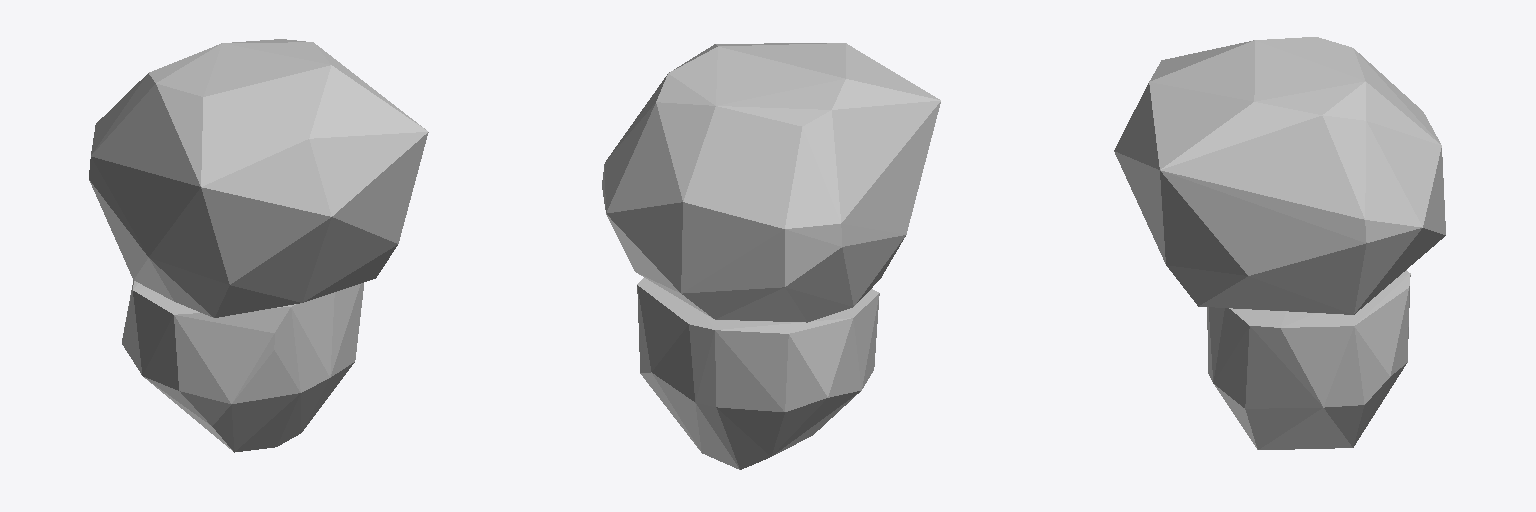
The model's file is body_collider.sgm.obj.
The picture shows the model from 3 angles: view 1: azimuth 30°, elevation 25°; view 2: azimuth 150°, elevation 25°; view 3: azimuth 270°, elevation 25°; orthographic projection.
Parts seen in each view (by area): view 1: 1, 0; view 2: 1, 0; view 3: 1, 0.
Boxes of the visible parts, x1=… form: 1: x1=89, y1=39, x2=428, y2=317; 0: x1=122, y1=280, x2=363, y2=452; 1: x1=602, y1=43, x2=940, y2=322; 0: x1=637, y1=278, x2=879, y2=469; 1: x1=1114, y1=37, x2=1445, y2=314; 0: x1=1207, y1=270, x2=1410, y2=449.
Bounding box in the file's own units: 0.4922 × 0.7076 × 0.5763.